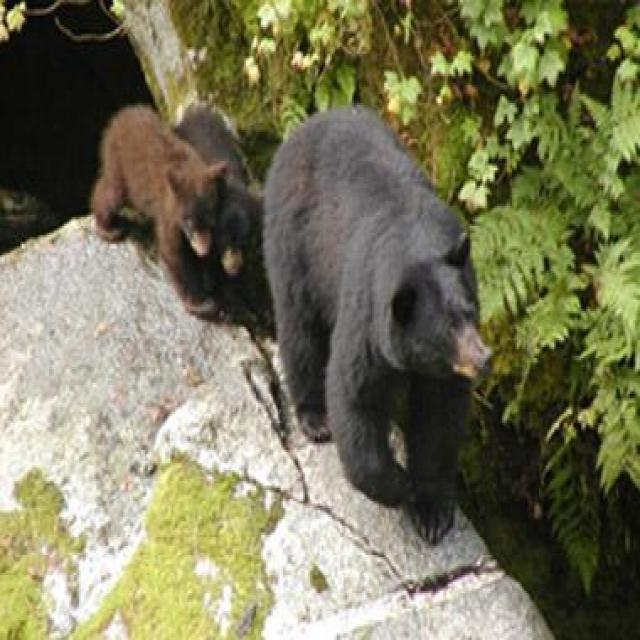Bear: (263, 105, 490, 546), (93, 105, 222, 307), (175, 112, 264, 298)
